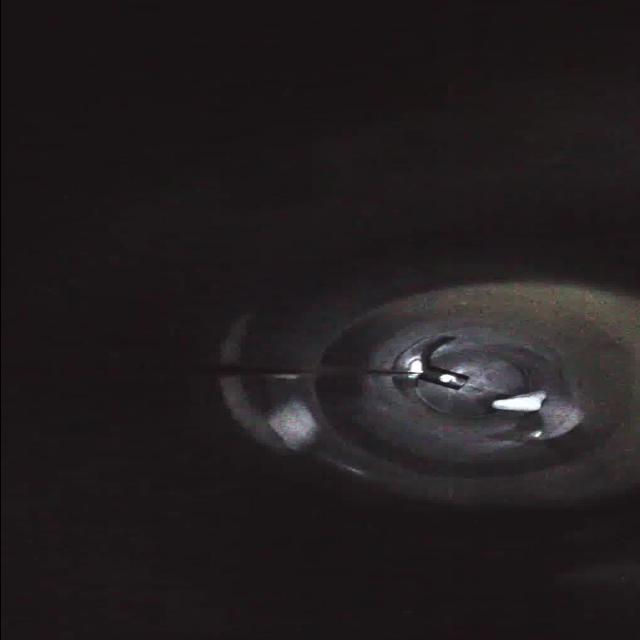impurity: (486, 384, 557, 419)
